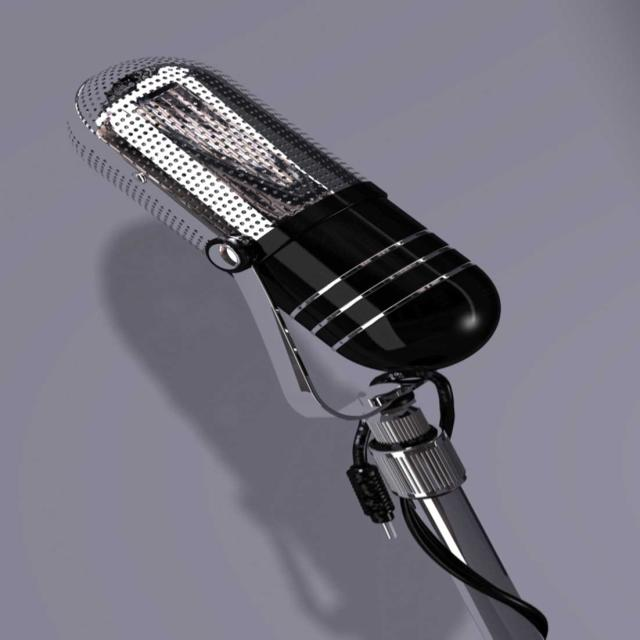microphone: (58, 55, 520, 376)
